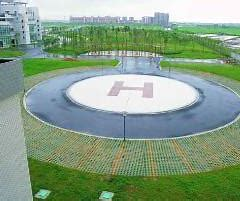H: (108, 82, 154, 99)
